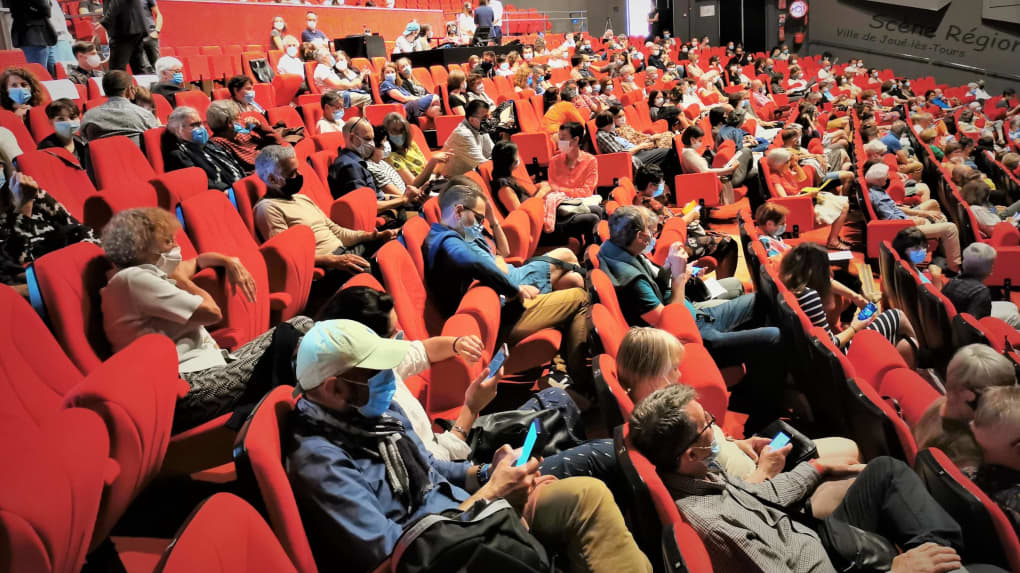with_mask: (343, 353, 410, 431), (679, 408, 731, 473), (138, 233, 183, 283), (458, 189, 491, 247), (270, 153, 307, 202), (629, 216, 660, 270), (185, 118, 216, 148), (56, 109, 81, 137), (9, 74, 32, 104), (349, 131, 375, 157), (324, 95, 349, 121), (644, 176, 667, 201), (238, 80, 257, 106), (769, 214, 787, 239), (169, 63, 187, 87), (471, 109, 491, 130), (378, 133, 393, 160), (560, 132, 574, 155), (391, 124, 406, 145)
